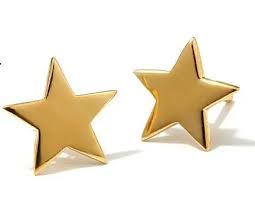star: (129, 28, 244, 154)
